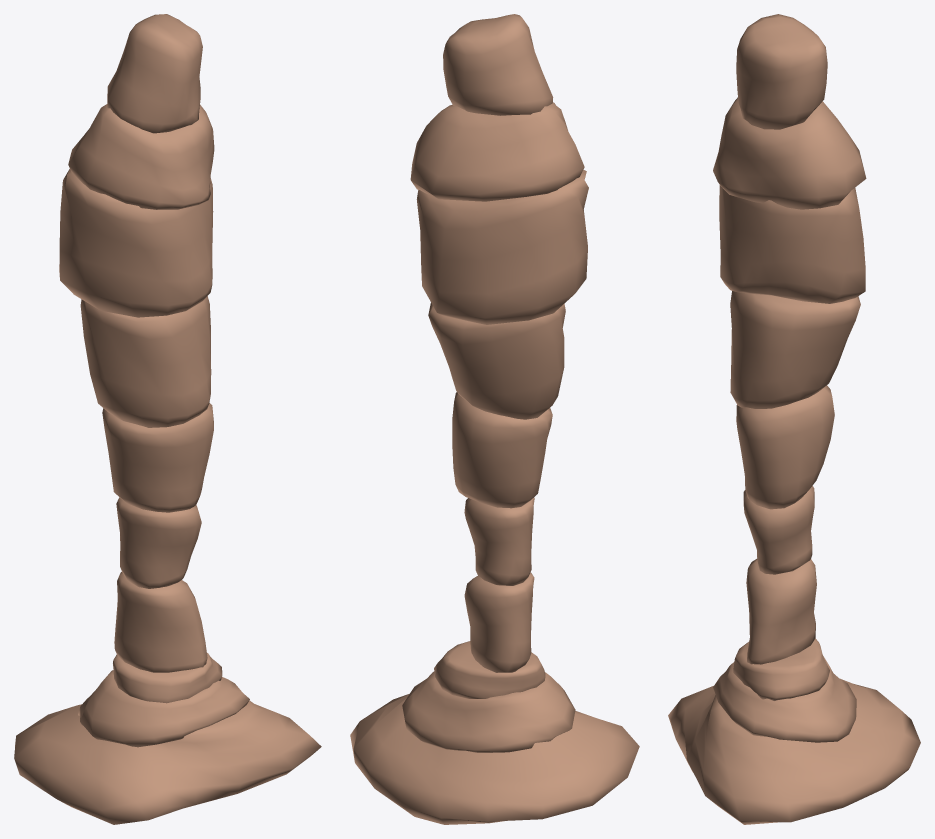
The model's file is obs_stal_medium.fbx.
3 renders of one model, left to right at view 1: azimuth 30°, elevation 25°; view 2: azimuth 150°, elevation 25°; view 3: azimuth 270°, elevation 25°, orthographic. The views are drawn at different scales.
Visible parts, largest first — view 1: stal_medium; view 2: stal_medium; view 3: stal_medium.
Boxes of the visible parts, x1,y1,x2,y2 form: stal_medium: [14, 14, 321, 824]; stal_medium: [350, 14, 639, 824]; stal_medium: [668, 14, 920, 824].
Size of the model in its own units: 0.7768 by 2.14 by 0.6644.
